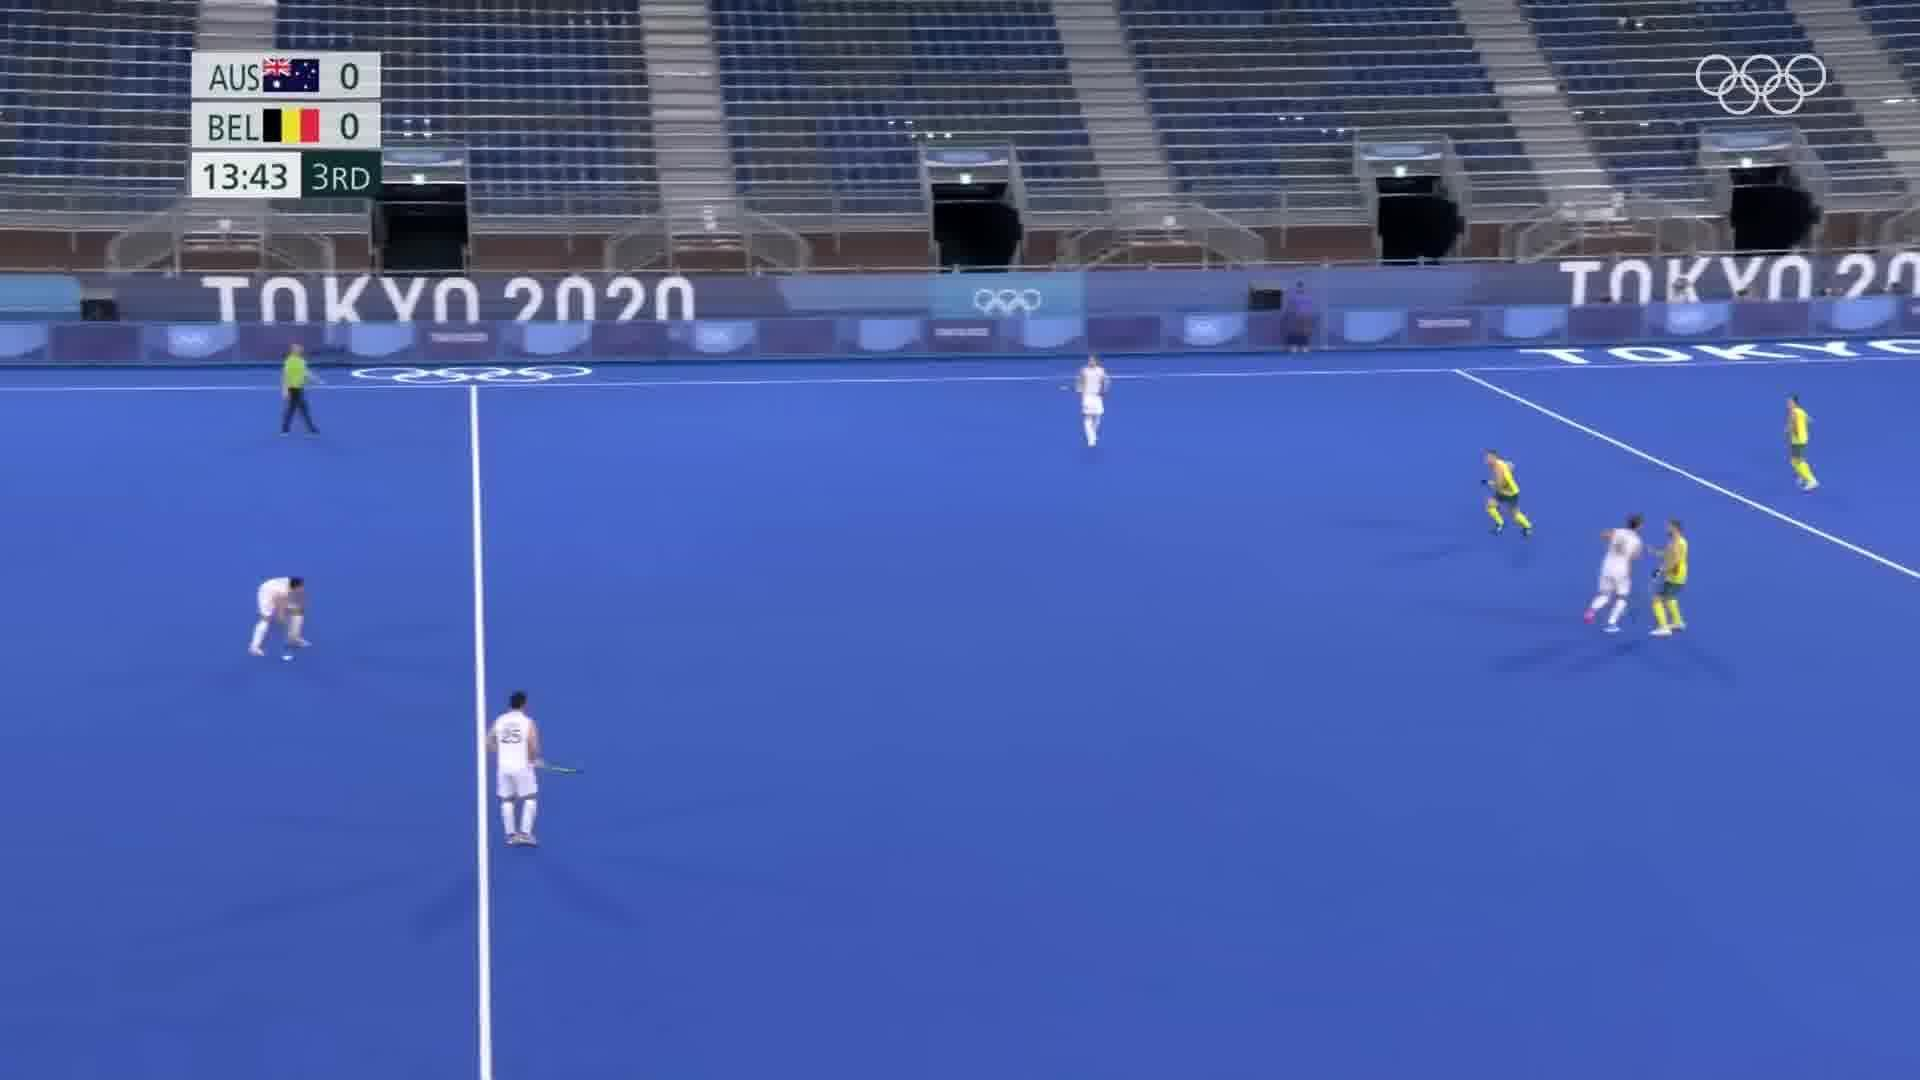ball: (280, 651, 297, 665)
